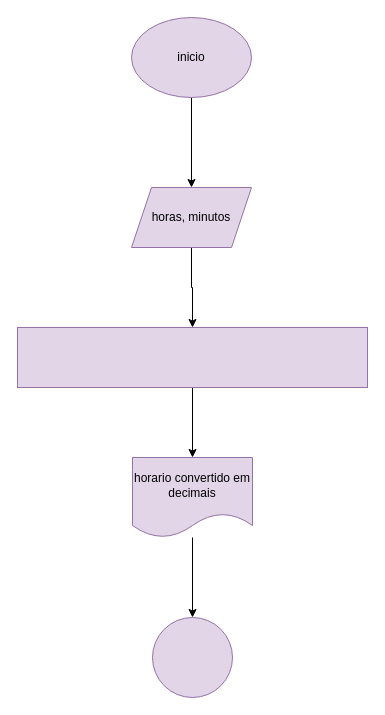
Image size: 385x715. Some labels were removed from this diagram. Each missing label, with the centre of its shape:
"convercao = (minutos/60) +horas" goes at point 192,357.
"fim" goes at point 192,657.
